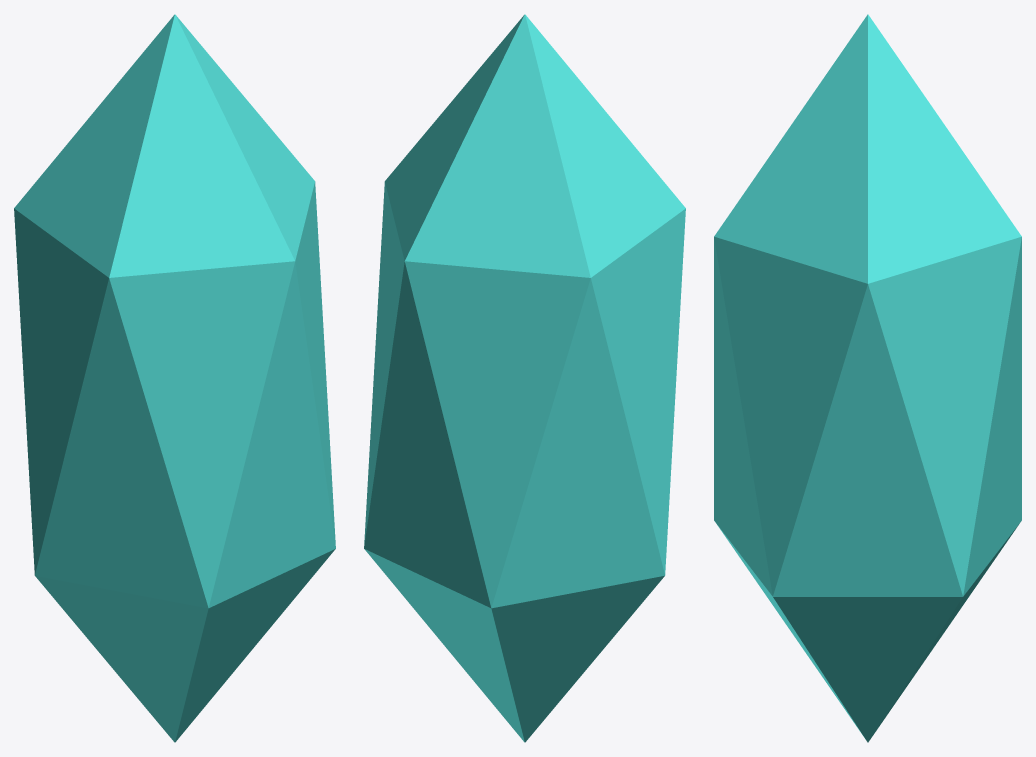
The model's file is SH10_Runetracer.fbx.
3 views of the same model, side by side, from view 1: azimuth 30°, elevation 25°; view 2: azimuth 150°, elevation 25°; view 3: azimuth 270°, elevation 25° (orthographic).
Visible parts, largest first — view 1: SH10_Runetracer; view 2: SH10_Runetracer; view 3: SH10_Runetracer.
Boxes of the visible parts, x1,y1,x2,y2 form: SH10_Runetracer: (14, 14, 335, 742); SH10_Runetracer: (364, 14, 685, 742); SH10_Runetracer: (714, 14, 1021, 742).
Bounding box in the file's own units: 32.2 × 80 × 30.62.
